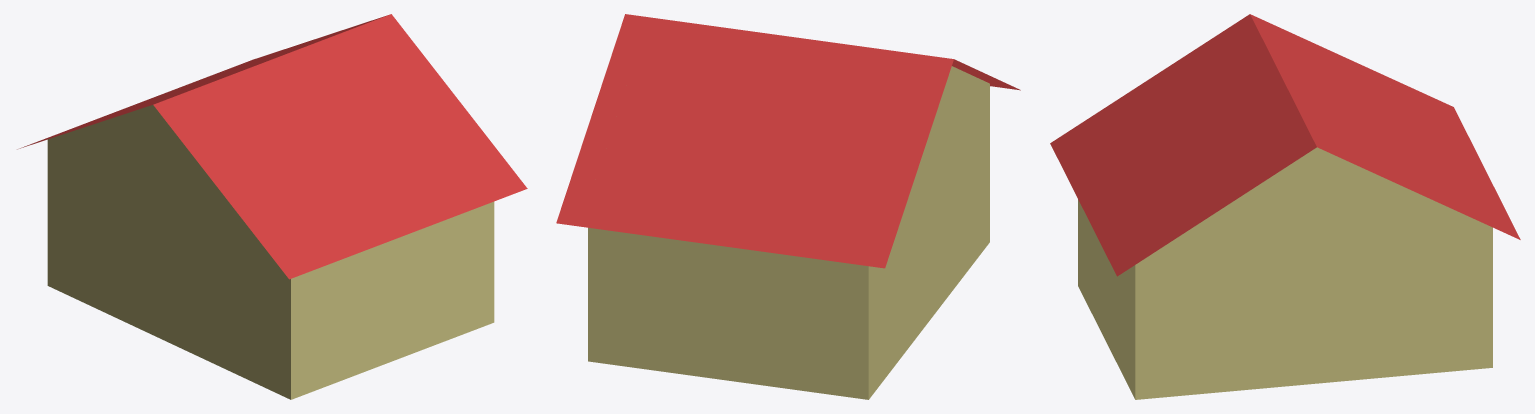
3 views of the same model, side by side, from view 1: azimuth 30°, elevation 25°; view 2: azimuth 150°, elevation 25°; view 3: azimuth 270°, elevation 25° (orthographic). The views are drawn at different scales.
Size of the model in its own units: 16.97 by 19.91 by 11.51.
